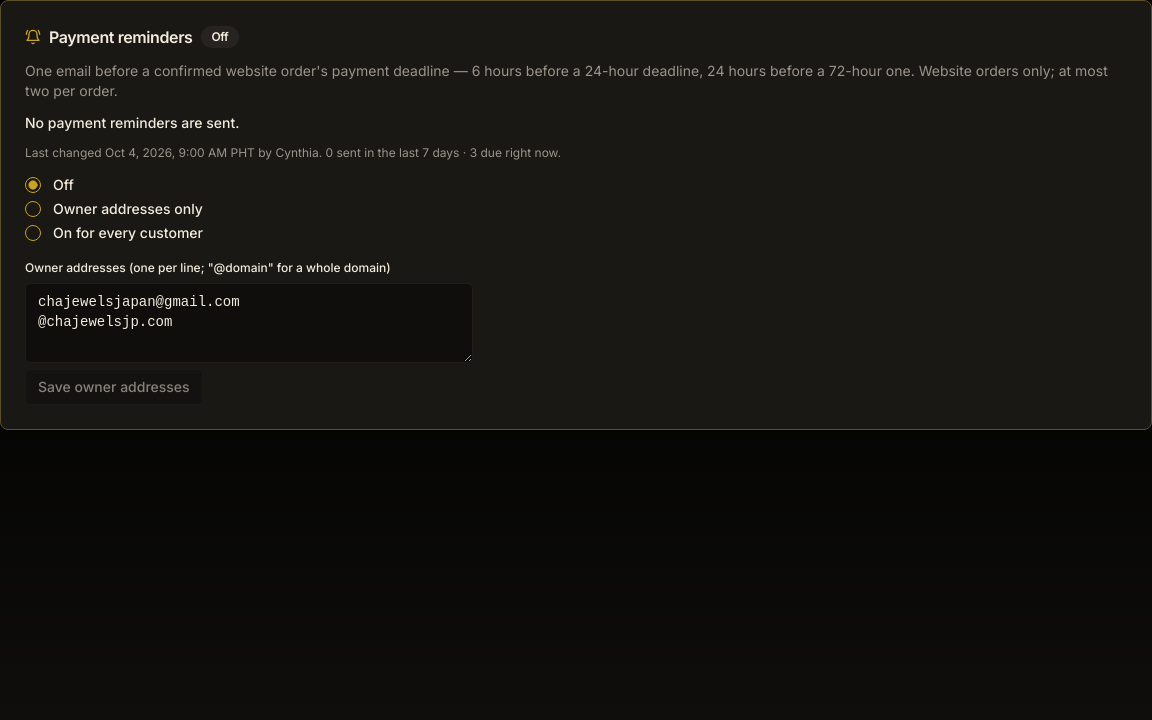
Test: Settings → Payment reminders card › an admin moves Off → Owner addresses only through a confirm, sending the mode they saw
Click the radio button named "Owner addresses only" next to "Owner addresses only" at (33, 209), box [25, 201, 41, 217]
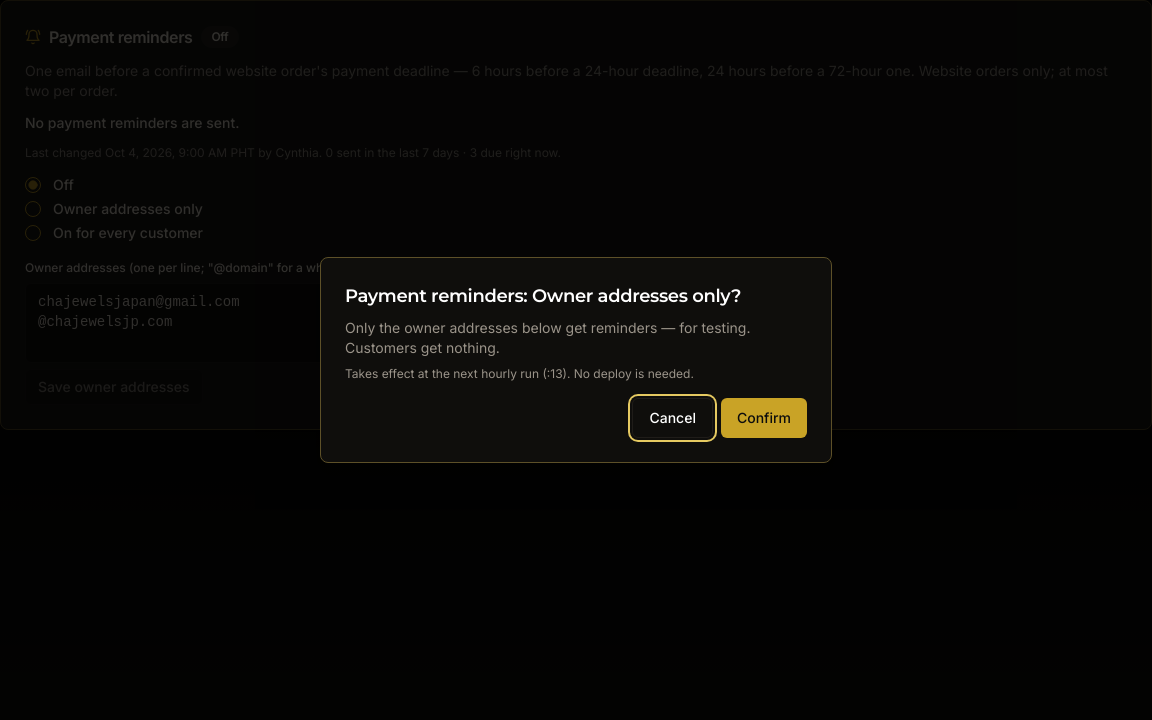
Click the button "Confirm" at (764, 418), box [721, 398, 807, 438]
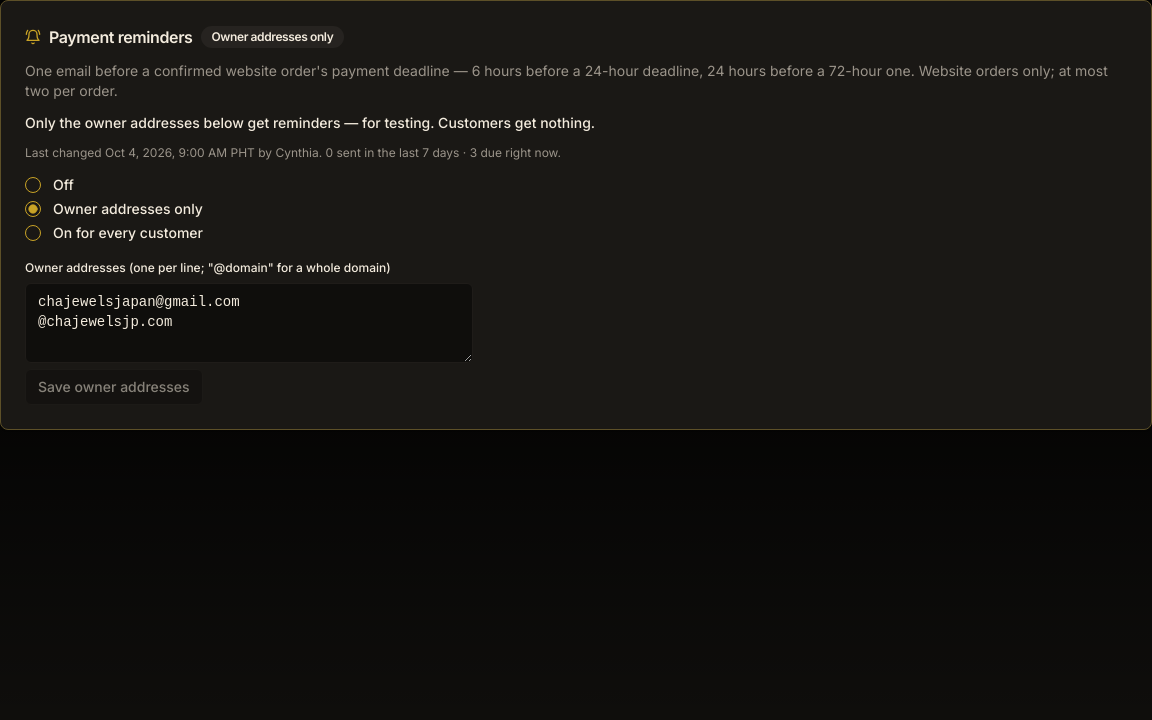
expect the text with test id "payment-reminders-state" reads "Owner addresses only": met, box [212, 29, 333, 44]
